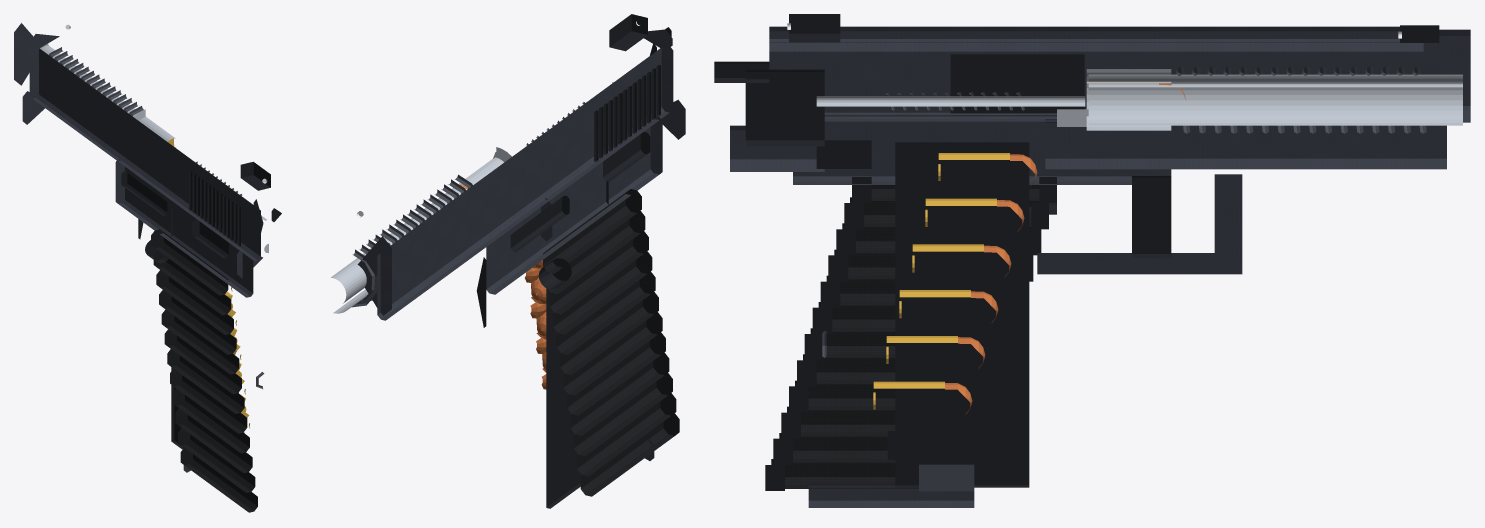
File: fort12-cutaway-wip.glb
The picture shows the model from 3 angles, left to right: view 1: azimuth 30°, elevation 25°; view 2: azimuth 150°, elevation 25°; view 3: azimuth 270°, elevation 25°; orthographic projection. The views are drawn at different scales.
Visible parts, largest first — view 1: slide_left_wall, ext_frame_left_wall, ext_grip_panel_left_00, ext_grip_panel_left_04, ext_grip_panel_left_08, ext_grip_panel_left_09, ext_grip_panel_left_11, ext_grip_panel_left_02, ext_grip_panel_left_06, ext_grip_panel_left_05, ext_grip_panel_left_10, ext_grip_panel_left_03 (+11 smaller); view 2: slide_left_wall, ext_frame_left_wall, int_mag_wall_left, ext_grip_panel_left_00, ext_grip_panel_left_04, ext_grip_panel_left_08, ext_grip_panel_left_09, ext_grip_panel_left_10, ext_grip_panel_left_02, ext_grip_panel_left_06, ext_grip_panel_left_03, ext_grip_panel_left_07 (+14 smaller); view 3: int_mag_wall_left, int_barrel_rifled, slide_left_wall, ext_frame_dust_cover, slide_top_deck, ext_frame_left_wall, slide_breech_block, int_hammer, ext_trigger_guard_bottom, int_mag_floorplate, int_mag_follower, int_trigger_blade (+21 smaller).
Boxes of the visible parts, <box> form: slide_left_wall: <box>29,46,260,261</box>; ext_frame_left_wall: <box>115,158,253,297</box>; ext_grip_panel_left_00: <box>151,229,228,295</box>; ext_grip_panel_left_04: <box>161,309,239,374</box>; ext_grip_panel_left_08: <box>172,388,249,453</box>; ext_grip_panel_left_09: <box>175,408,252,473</box>; ext_grip_panel_left_11: <box>180,447,257,512</box>; ext_grip_panel_left_02: <box>156,270,233,334</box>; ext_grip_panel_left_06: <box>167,349,244,413</box>; ext_grip_panel_left_05: <box>164,329,241,394</box>; ext_grip_panel_left_10: <box>178,428,255,492</box>; ext_grip_panel_left_03: <box>159,290,236,354</box>; slide_left_wall: <box>377,45,673,320</box>; ext_frame_left_wall: <box>486,116,662,294</box>; int_mag_wall_left: <box>546,181,608,508</box>; ext_grip_panel_left_00: <box>543,189,641,273</box>; ext_grip_panel_left_04: <box>556,271,655,354</box>; ext_grip_panel_left_08: <box>570,352,669,435</box>; ext_grip_panel_left_09: <box>573,373,672,456</box>; ext_grip_panel_left_10: <box>577,393,676,476</box>; ext_grip_panel_left_02: <box>549,231,648,314</box>; ext_grip_panel_left_06: <box>563,312,662,395</box>; ext_grip_panel_left_03: <box>553,251,652,334</box>; ext_grip_panel_left_07: <box>567,332,665,415</box>; int_mag_wall_left: <box>895,142,1029,487</box>; int_barrel_rifled: <box>1088,74,1462,125</box>; slide_left_wall: <box>769,42,1415,121</box>; ext_frame_dust_cover: <box>1045,119,1446,169</box>; slide_top_deck: <box>769,26,1423,51</box>; ext_frame_left_wall: <box>793,115,1171,184</box>; slide_breech_block: <box>950,54,1084,113</box>; int_hammer: <box>745,69,824,146</box>; ext_trigger_guard_bottom: <box>1037,253,1242,274</box>; int_mag_floorplate: <box>808,483,974,507</box>; int_mag_follower: <box>887,431,1005,459</box>; int_trigger_blade: <box>1132,176,1171,258</box>.
Bounding box in the file's own units: 0.018 × 0.14 × 0.192.
8 materials, 8 textured.
